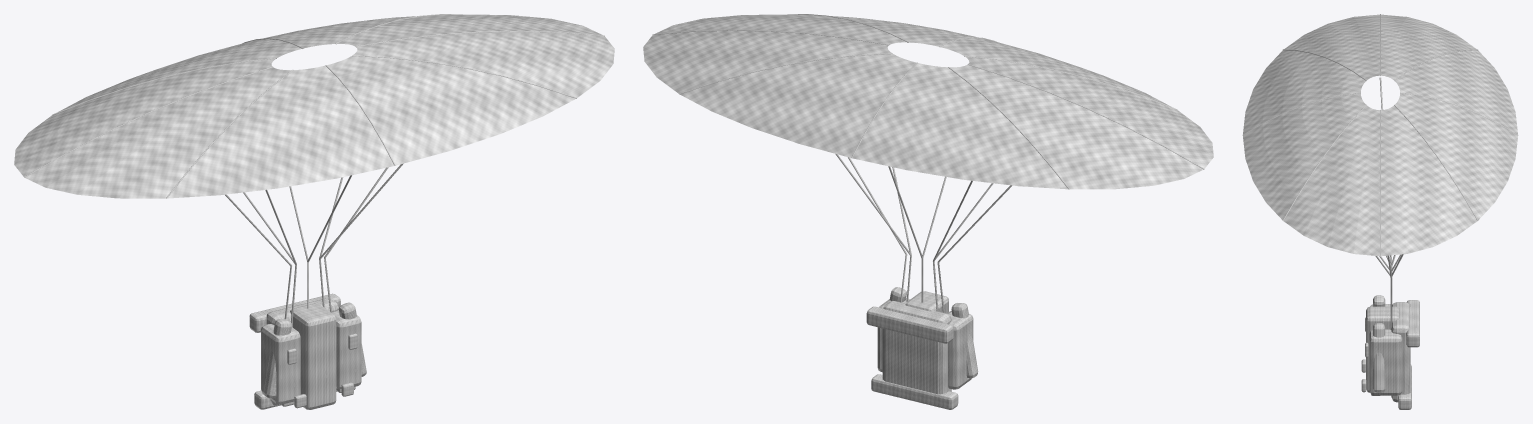
File: parachute_variant_d.glb
3 renders of one model, left to right at view 1: azimuth 30°, elevation 25°; view 2: azimuth 150°, elevation 25°; view 3: azimuth 270°, elevation 25°, orthographic. The views are drawn at different scales.
Visible parts, largest first — view 1: DEPLOYED_CANOPY_rectangular, Central pack spine, Side fabric pod, Side fabric pod.001, Shoulder strap.006, Upper harness yoke.003, Dorsal mounting plate.003; view 2: DEPLOYED_CANOPY_rectangular, Dorsal mounting plate.003, Upper harness yoke.003, Side fabric pod, Waist belt.003, Shoulder strap.006, Central pack spine; view 3: DEPLOYED_CANOPY_rectangular, Side fabric pod.001, Dorsal mounting plate.003, Central pack spine, Shoulder strap.007, Upper harness yoke.003, Waist belt.003.
Boxes of the visible parts, x1,y1,x2,y2 form: DEPLOYED_CANOPY_rectangular: (14, 14, 614, 198); Central pack spine: (290, 303, 336, 409); Side fabric pod: (261, 324, 300, 404); Side fabric pod.001: (332, 307, 361, 389); Shoulder strap.006: (263, 319, 291, 398); Upper harness yoke.003: (249, 293, 340, 332); Dorsal mounting plate.003: (266, 298, 338, 405); DEPLOYED_CANOPY_rectangular: (643, 14, 1213, 189); Dorsal mounting plate.003: (882, 301, 951, 394); Upper harness yoke.003: (866, 306, 953, 343); Side fabric pod: (947, 311, 973, 389); Waist belt.003: (871, 374, 958, 409); Shoulder strap.006: (951, 303, 978, 378); Central pack spine: (905, 291, 948, 313); DEPLOYED_CANOPY_rectangular: (1243, 14, 1517, 256); Side fabric pod.001: (1369, 329, 1402, 395); Dorsal mounting plate.003: (1391, 302, 1410, 402); Central pack spine: (1366, 306, 1399, 392); Shoulder strap.007: (1373, 323, 1385, 392); Upper harness yoke.003: (1406, 300, 1419, 347); Waist belt.003: (1398, 364, 1411, 409).
Size of what is drawn, in the model's own units: 4.19 by 2.43 by 2.02.
8 materials, 8 textured.
